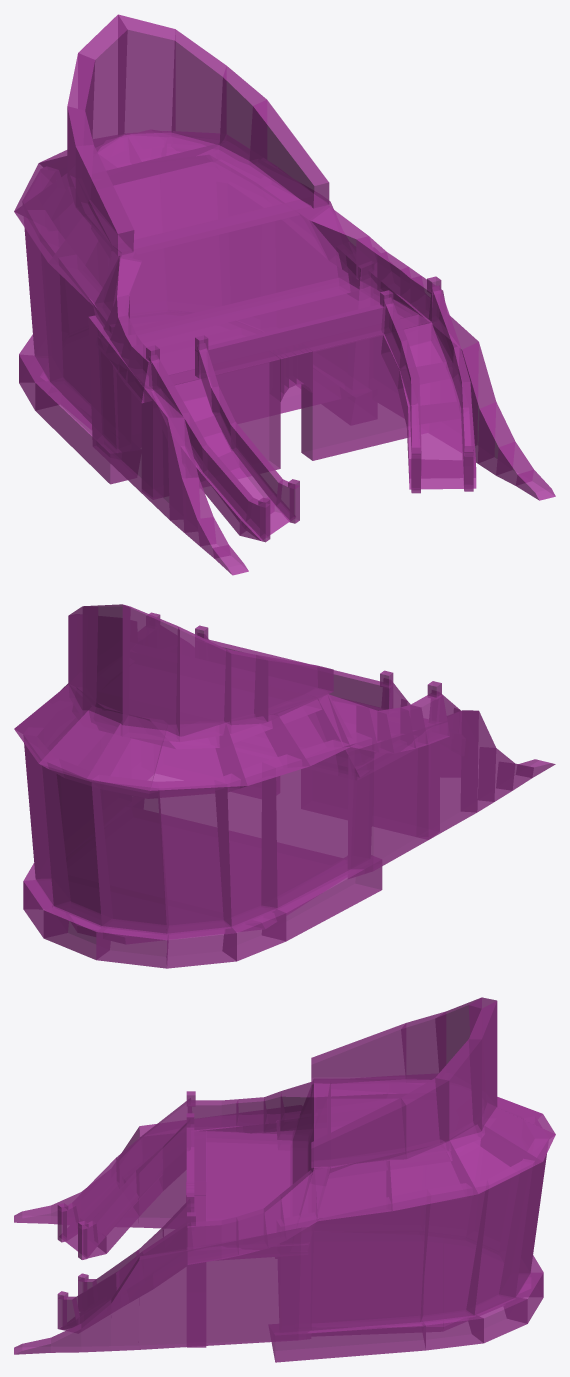
File: SM_Bld_Ship_Back_01_Collision.fbx
3 renders of one model, top to bottom at view 1: azimuth 30°, elevation 25°; view 2: azimuth 150°, elevation 25°; view 3: azimuth 270°, elevation 25°, orthographic. The views are drawn at different scales.
Visible parts, largest first — view 1: SM_Bld_Ship_Back_01_Collision; view 2: SM_Bld_Ship_Back_01_Collision; view 3: SM_Bld_Ship_Back_01_Collision.
Boxes of the visible parts, bbox=[...] form: SM_Bld_Ship_Back_01_Collision: bbox=[14, 14, 555, 575]; SM_Bld_Ship_Back_01_Collision: bbox=[14, 604, 555, 968]; SM_Bld_Ship_Back_01_Collision: bbox=[14, 997, 555, 1362].
Size of the model in its own units: 1020 by 1039 by 1676.
